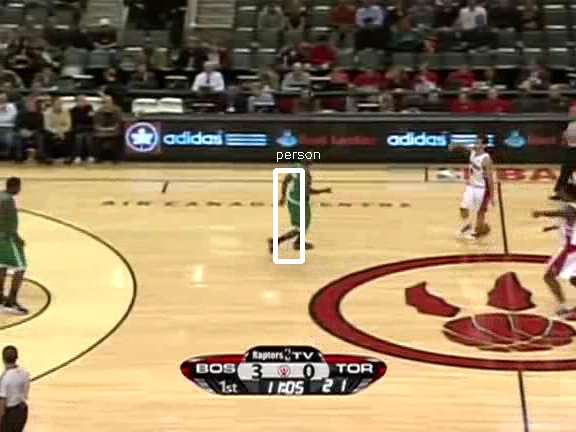person: (283, 158, 317, 239), (282, 158, 316, 239), (284, 158, 318, 239), (283, 157, 317, 238), (283, 159, 317, 240)
target_negative: (69, 185, 383, 340), (340, 371, 530, 431), (512, 41, 546, 198), (179, 260, 470, 276), (28, 8, 132, 38), (547, 187, 556, 432)
